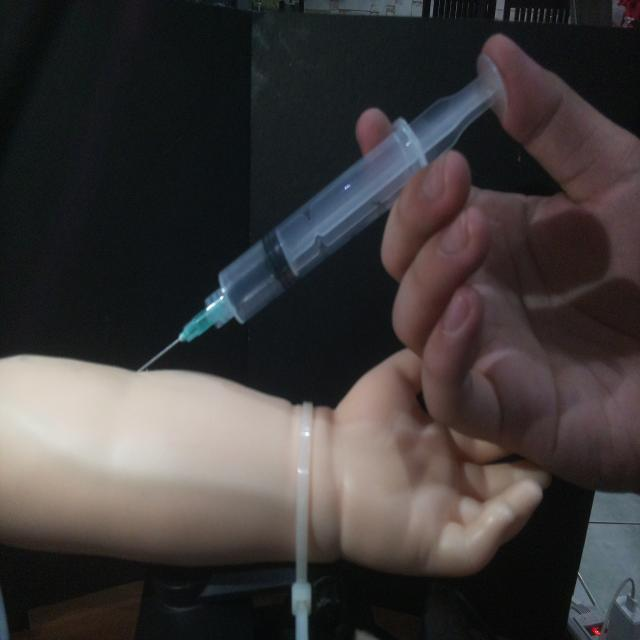28deg: (132, 49, 511, 375)
